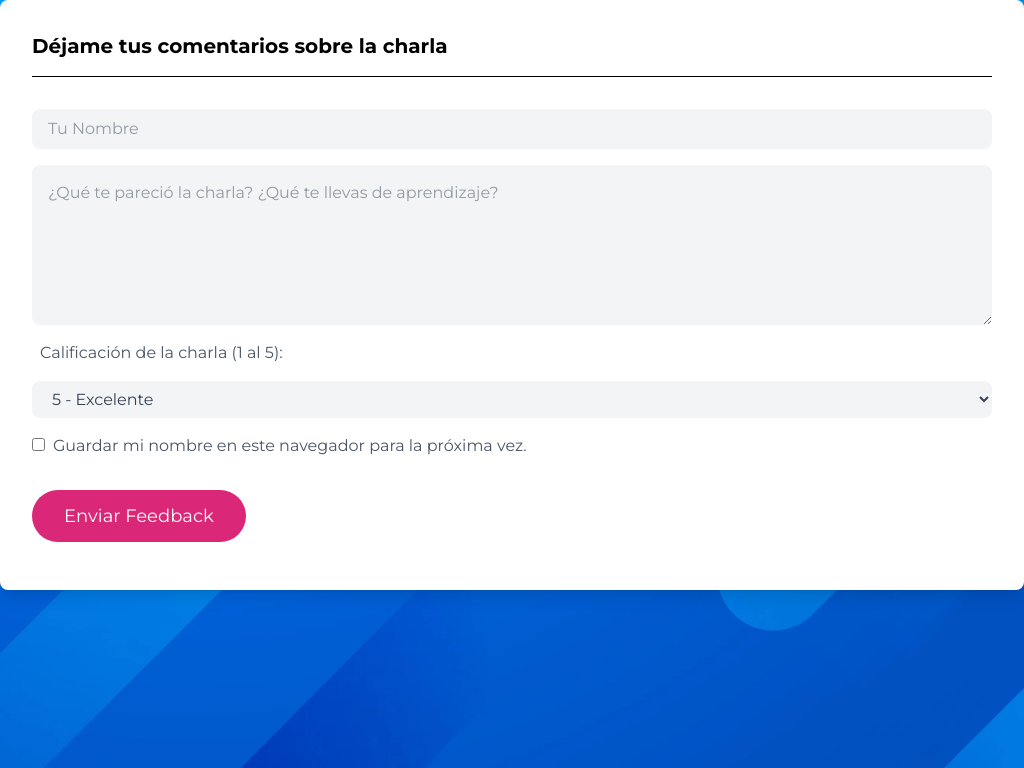
Scenario: ConferenceFeedbackForm › shows a validation error when required fields are empty
Step 1. Click the button "Enviar Feedback" → (139, 516), box [32,490,246,542]
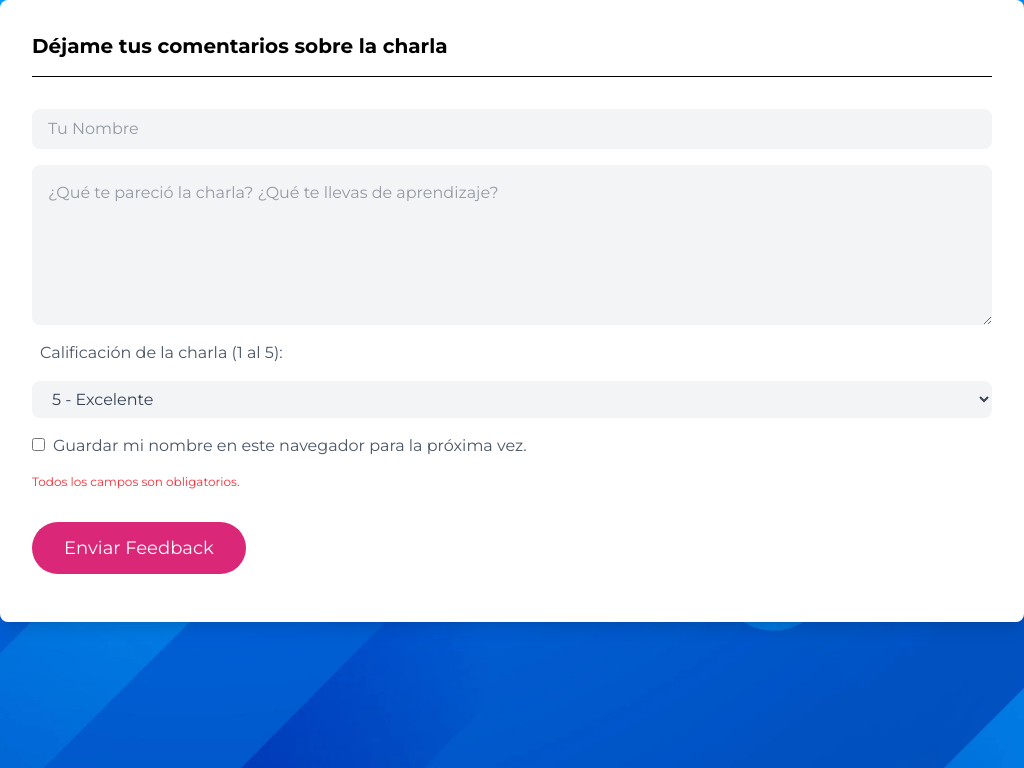
Expected: the text "Todos los campos son obligatorios." is shown, [32,474,240,489]
